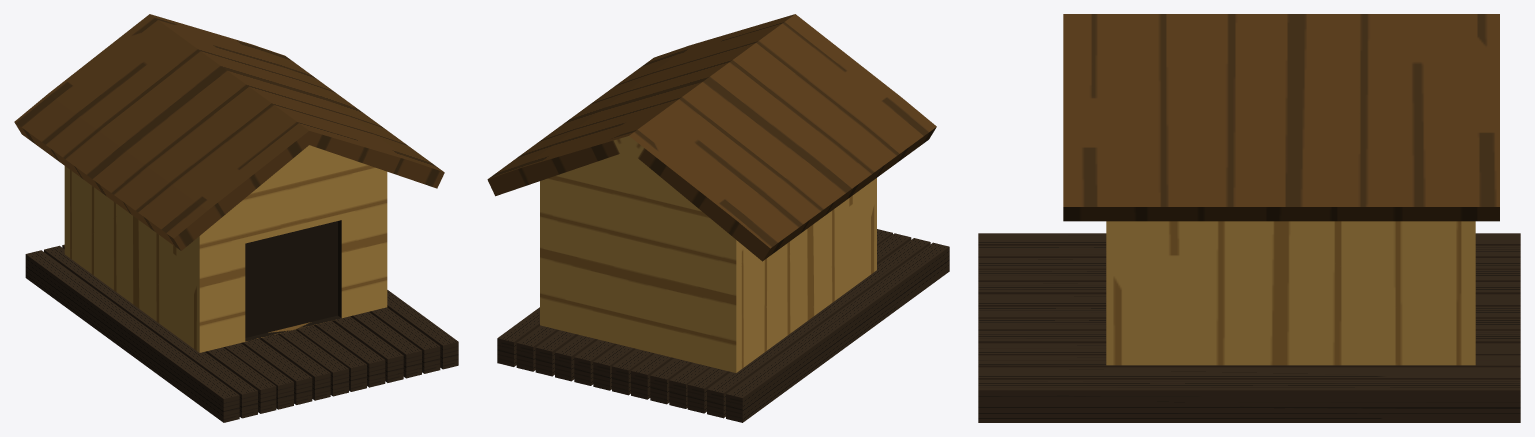
Rendered from Houseboat.fbx.
The picture shows the model from 3 angles, left to right: view 1: azimuth 30°, elevation 25°; view 2: azimuth 150°, elevation 25°; view 3: azimuth 270°, elevation 25°; orthographic projection. The views are drawn at different scales.
Visible parts, largest first — view 1: Cube, woog.007, woog.008, woog.010, woog.009, woog.012, woog.003, woog.004, woog.002, woog.011, woog.005, woog (+2 smaller); view 2: Cube, woog.007, woog.008, woog.009, woog.010, woog.006, woog.012, woog.003, woog.004, woog.002, woog.011, woog.005 (+2 smaller); view 3: Cube, woog.010, woog.011, woog.012, woog.002, woog.007, woog.004, woog, woog.008, woog.006, woog.005, woog.003 (+2 smaller).
Boxes of the visible parts, x1,y1,x2,y2 form: Cube: (14,14,444,352); woog.007: (25,250,239,422); woog.008: (44,245,257,418); woog.010: (387,290,458,369); woog.009: (62,244,276,413); woog.012: (350,312,421,378); woog.003: (332,316,403,382); woog.004: (259,334,330,400); woog.002: (314,321,385,387); woog.011: (369,307,440,373); woog.005: (241,338,312,404); woog: (278,329,348,396); Cube: (487,14,936,372); woog.007: (726,242,949,422); woog.008: (707,238,930,418); woog.009: (687,233,911,413); woog.010: (497,307,540,366); woog.006: (669,229,892,408); woog.012: (535,330,578,376); woog.003: (555,335,597,381); woog.004: (631,353,673,399); woog.002: (574,339,616,385); woog.011: (516,325,559,371); woog.005: (650,358,692,404); Cube: (1063,14,1499,365); woog.010: (978,379,1520,422); woog.011: (978,367,1520,379); woog.012: (978,355,1520,367); woog.002: (978,330,1520,343); woog.007: (978,233,1520,245); woog.004: (978,294,1520,306); woog: (978,306,1520,318); woog.008: (978,245,1520,257); woog.006: (978,269,1520,281); woog.005: (978,282,1520,294); woog.003: (978,343,1520,355).
Size of the model in its own units: 1302 by 1107 by 1649.
